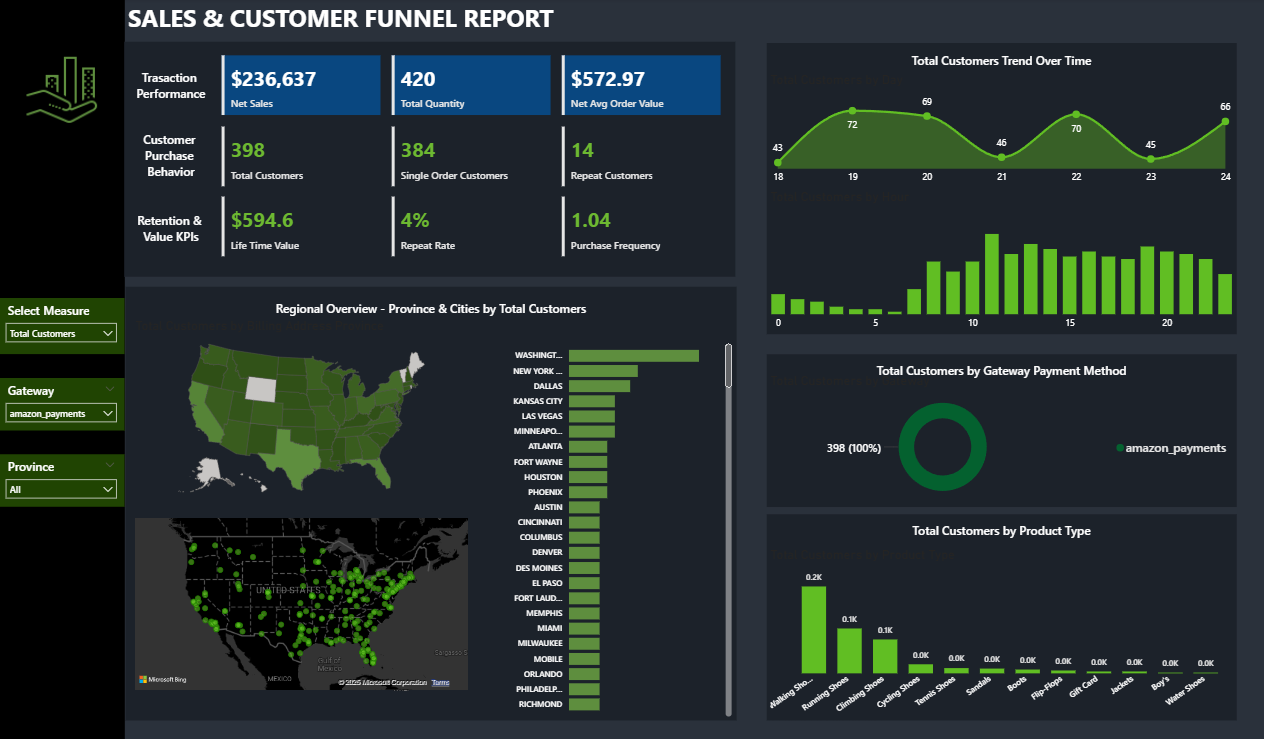

The dashboard page shown, as its layout file describes it:
{"tool":"powerbi","page":{"name":"Shopify Analysis","canvas":[1700,1000],"ordinal":0},"visuals":[{"type":"shape","box":[0,0,170,999],"z":0},{"type":"textbox","box":[169.2,0,754,58.6],"z":1000},{"type":"shape","box":[169.2,58.6,819.4,315],"z":2000},{"type":"cardVisual","fields":{"Data":["shopify_sales.Net Sales","shopify_sales.Total Quantity","shopify_sales.Net Avg Order Value"]},"box":[294.9,72.1,680.3,90.5],"z":3000},{"type":"card","fields":{"Values":["shopify_sales.Transaction Perf"]},"box":[169.2,82.1,125.7,70.4],"z":4000},{"type":"cardVisual","fields":{"Data":["shopify_sales.Total Customers","shopify_sales.Single Order Customers","shopify_sales.Repeat Customers"]},"box":[294.9,166.7,680.3,90.5],"z":5000},{"type":"card","fields":{"Values":["shopify_sales.Customer Purchase Behavior"]},"box":[169.2,160,125.7,93.8],"z":6000},{"type":"cardVisual","fields":{"Data":["shopify_sales.Life Time Value","shopify_sales.Repeat Rate","shopify_sales.Purchase Frequency"]},"box":[294.9,261.4,680.3,90.5],"z":7000},{"type":"card","fields":{"Values":["shopify_sales.Retention & Value KPIs"]},"box":[169.2,261.4,125.7,93.8],"z":8000},{"type":"shape","box":[170.9,387.1,819.4,581.4],"z":9000},{"type":"shapeMap","fields":{"Value":["shopify_sales.Total Customers"],"Category":["shopify_sales.Billing Address Province"]},"box":[179.3,429,455.8,249.7],"z":10000},{"type":"slicer","fields":{"Values":["Select Measure.Select Measure"]},"box":[0,402.1,169.2,75.4],"z":11000},{"type":"map","fields":{"Category":["shopify_sales.Location"]},"box":[179.3,692,455.8,241.3],"z":12000},{"type":"clusteredBarChart","fields":{"Y":["shopify_sales.Total Customers"],"Category":["shopify_sales.CITY"]},"box":[673.6,450.7,315,517.8],"z":13000},{"type":"card","fields":{"Values":["shopify_sales.Map Title"]},"box":[316.7,402.1,527.8,33.5],"z":14000},{"type":"shape","box":[1030.5,60.3,630,390.4],"z":15000},{"type":"areaChart","fields":{"Y":["shopify_sales.Total Customers"],"Category":["shopify_sales.Invoice Date.Variation.Date Hierarchy.Day"]},"box":[1030.5,98.9,630,159.2],"z":16000},{"type":"clusteredColumnChart","fields":{"Y":["shopify_sales.Total Customers"],"Category":["shopify_sales.Hour"]},"box":[1030.5,256.4,630,197.7],"z":17000},{"type":"card","fields":{"Values":["shopify_sales.Trend Title"]},"box":[1204.8,72.1,281.5,26.8],"z":18000},{"type":"shape","box":[1030.5,477.5,630,205],"z":19000},{"type":"donutChart","fields":{"Y":["shopify_sales.Total Customers"],"Category":["shopify_sales.Gateway"]},"box":[1030.5,502.7,630,179.3],"z":20000},{"type":"card","fields":{"Values":["shopify_sales.Gateway Title"]},"box":[1151.1,487.6,388.7,28.5],"z":21000},{"type":"shape","box":[1030.5,692,630,276.5],"z":22000},{"type":"columnChart","fields":{"Y":["shopify_sales.Total Customers"],"Category":["shopify_sales.Product Type"]},"box":[1030.5,735.6,630,232.9],"z":23000},{"type":"card","fields":{"Values":["shopify_sales.Product Title"]},"box":[1142.8,697.1,405.5,38.5],"z":24000},{"type":"slicer","fields":{"Values":["shopify_sales.Gateway"]},"box":[0,509.4,169.2,70.4],"z":26000},{"type":"slicer","fields":{"Values":["shopify_sales.Billing Address Province"]},"box":[0,611.6,169.2,70.4],"z":27000},{"type":"image","box":[23.5,60.3,124,125.7],"z":27001}]}

Visuals, with their boxes in screenshot pixels (x1, y1, x2, y2), scaled from the page's 1700x1000 canvas onto the 1264x739 screenshot:
shape: bbox=(0, 0, 126, 738)
textbox: bbox=(126, 0, 686, 43)
shape: bbox=(126, 43, 735, 276)
cardVisual - shopify_sales.Net Sales x shopify_sales.Total Quantity: bbox=(219, 53, 725, 120)
card - shopify_sales.Transaction Perf: bbox=(126, 61, 219, 113)
cardVisual - shopify_sales.Total Customers x shopify_sales.Single Order Customers: bbox=(219, 123, 725, 190)
card - shopify_sales.Customer Purchase Behavior: bbox=(126, 118, 219, 188)
cardVisual - shopify_sales.Life Time Value x shopify_sales.Repeat Rate: bbox=(219, 193, 725, 260)
card - shopify_sales.Retention & Value KPIs: bbox=(126, 193, 219, 262)
shape: bbox=(127, 286, 736, 716)
shapeMap - shopify_sales.Total Customers x shopify_sales.Billing Address Province: bbox=(133, 317, 472, 502)
slicer - Select Measure.Select Measure: bbox=(0, 297, 126, 353)
map - shopify_sales.Location: bbox=(133, 511, 472, 690)
clusteredBarChart - shopify_sales.Total Customers x shopify_sales.CITY: bbox=(501, 333, 735, 716)
card - shopify_sales.Map Title: bbox=(235, 297, 628, 322)
shape: bbox=(766, 45, 1235, 333)
areaChart - shopify_sales.Total Customers x shopify_sales.Invoice Date.Variation.Date Hierarchy.Day: bbox=(766, 73, 1235, 191)
clusteredColumnChart - shopify_sales.Total Customers x shopify_sales.Hour: bbox=(766, 189, 1235, 336)
card - shopify_sales.Trend Title: bbox=(896, 53, 1105, 73)
shape: bbox=(766, 353, 1235, 504)
donutChart - shopify_sales.Total Customers x shopify_sales.Gateway: bbox=(766, 371, 1235, 504)
card - shopify_sales.Gateway Title: bbox=(856, 360, 1145, 381)
shape: bbox=(766, 511, 1235, 716)
columnChart - shopify_sales.Total Customers x shopify_sales.Product Type: bbox=(766, 544, 1235, 716)
card - shopify_sales.Product Title: bbox=(850, 515, 1151, 544)
slicer - shopify_sales.Gateway: bbox=(0, 376, 126, 428)
slicer - shopify_sales.Billing Address Province: bbox=(0, 452, 126, 504)
image: bbox=(17, 45, 110, 137)
